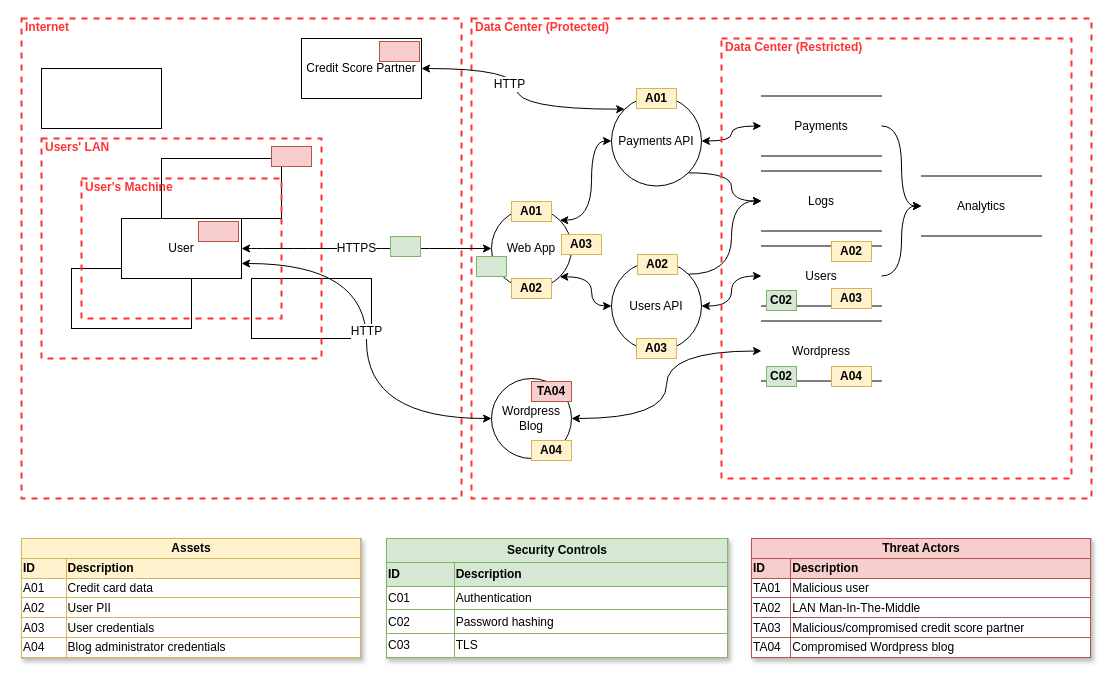
Some shapes in this 1115 by 683 pixel diagram are drawn without their labels. The shapes that lost their labels are listed below. From the top down, each one's centre as x and y in pixels, then its label:
point 399,51: TA03
point 291,156: TA02
point 218,231: TA01
point 405,246: C03
point 491,266: C01
